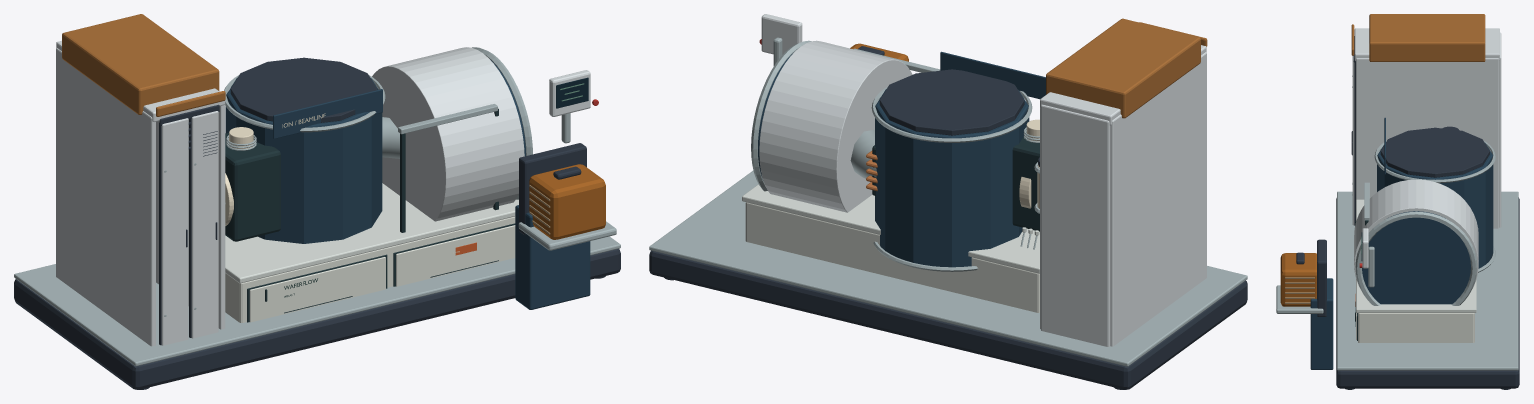
File: equipment-implant.glb
The picture shows the model from 3 angles, left to right: view 1: azimuth 30°, elevation 25°; view 2: azimuth 150°, elevation 25°; view 3: azimuth 270°, elevation 25°; orthographic projection. The views are drawn at different scales.
Parts seen in each view (by area): view 1: Side service skin, Cylindrical end station vessel, Segmented service plinth, Analyzing magnet return yoke, Raised deck edge, Ion source high voltage cap, Satin service deck, Analyzing magnet return yoke top cap, Removable service door, Removable service door.001, Independent load port base, Ion source chamber (+19 smaller); view 2: Side service skin, Raised deck edge, Analyzing magnet return yoke, Cylindrical end station vessel, Rear utility enclosure, Segmented service plinth, Precision cabinet, Ion source high voltage cap, Analyzing magnet return yoke top cap, Satin service deck, Ion source chamber, Instrument engraved nameplate (+6 smaller); view 3: Raised deck edge, Side service skin.001, End station service door, Ion source high voltage cap, Analyzing magnet return yoke top cap, Cylindrical end station vessel, Segmented service plinth, Precision cabinet, Analyzing magnet return yoke, Amber wafer transport pod, Independent load port base, End station flange (+11 smaller).
Boxes of the visible parts, bbox=[...] form: Side service skin: bbox=[56, 48, 155, 346]; Cylindrical end station vessel: bbox=[372, 47, 524, 221]; Segmented service plinth: bbox=[14, 248, 620, 389]; Analyzing magnet return yoke: bbox=[225, 78, 382, 243]; Raised deck edge: bbox=[14, 236, 620, 366]; Ion source high voltage cap: bbox=[62, 14, 219, 114]; Satin service deck: bbox=[225, 183, 518, 283]; Analyzing magnet return yoke top cap: bbox=[230, 57, 377, 122]; Removable service door: bbox=[161, 118, 188, 345]; Removable service door.001: bbox=[191, 111, 218, 338]; Independent load port base: bbox=[515, 205, 590, 309]; Ion source chamber: bbox=[225, 132, 280, 241]; Side service skin: bbox=[1110, 52, 1206, 346]; Raised deck edge: bbox=[649, 170, 1247, 366]; Analyzing magnet return yoke: bbox=[875, 89, 1029, 267]; Cylindrical end station vessel: bbox=[759, 40, 912, 212]; Rear utility enclosure: bbox=[1041, 104, 1110, 346]; Segmented service plinth: bbox=[649, 250, 1247, 389]; Precision cabinet: bbox=[745, 202, 1039, 312]; Ion source high voltage cap: bbox=[1046, 18, 1200, 118]; Analyzing magnet return yoke top cap: bbox=[879, 69, 1024, 135]; Satin service deck: bbox=[742, 184, 1039, 273]; Ion source chamber: bbox=[1012, 135, 1039, 231]; Instrument engraved nameplate: bbox=[940, 51, 1045, 99]; Raised deck edge: bbox=[1337, 191, 1518, 370]; Side service skin.001: bbox=[1356, 58, 1498, 228]; End station service door: bbox=[1362, 211, 1470, 304]; Ion source high voltage cap: bbox=[1369, 14, 1485, 61]; Analyzing magnet return yoke top cap: bbox=[1380, 127, 1489, 177]; Cylindrical end station vessel: bbox=[1354, 179, 1478, 290]; Segmented service plinth: bbox=[1336, 197, 1519, 388]; Precision cabinet: bbox=[1358, 313, 1474, 342]; Analyzing magnet return yoke: bbox=[1377, 143, 1493, 268]; Amber wafer transport pod: bbox=[1280, 253, 1316, 306]; Independent load port base: bbox=[1310, 278, 1333, 369]; End station flange: bbox=[1355, 211, 1477, 305].
Bounding box in the file's own units: 9.15 × 5.13 × 5.3.
